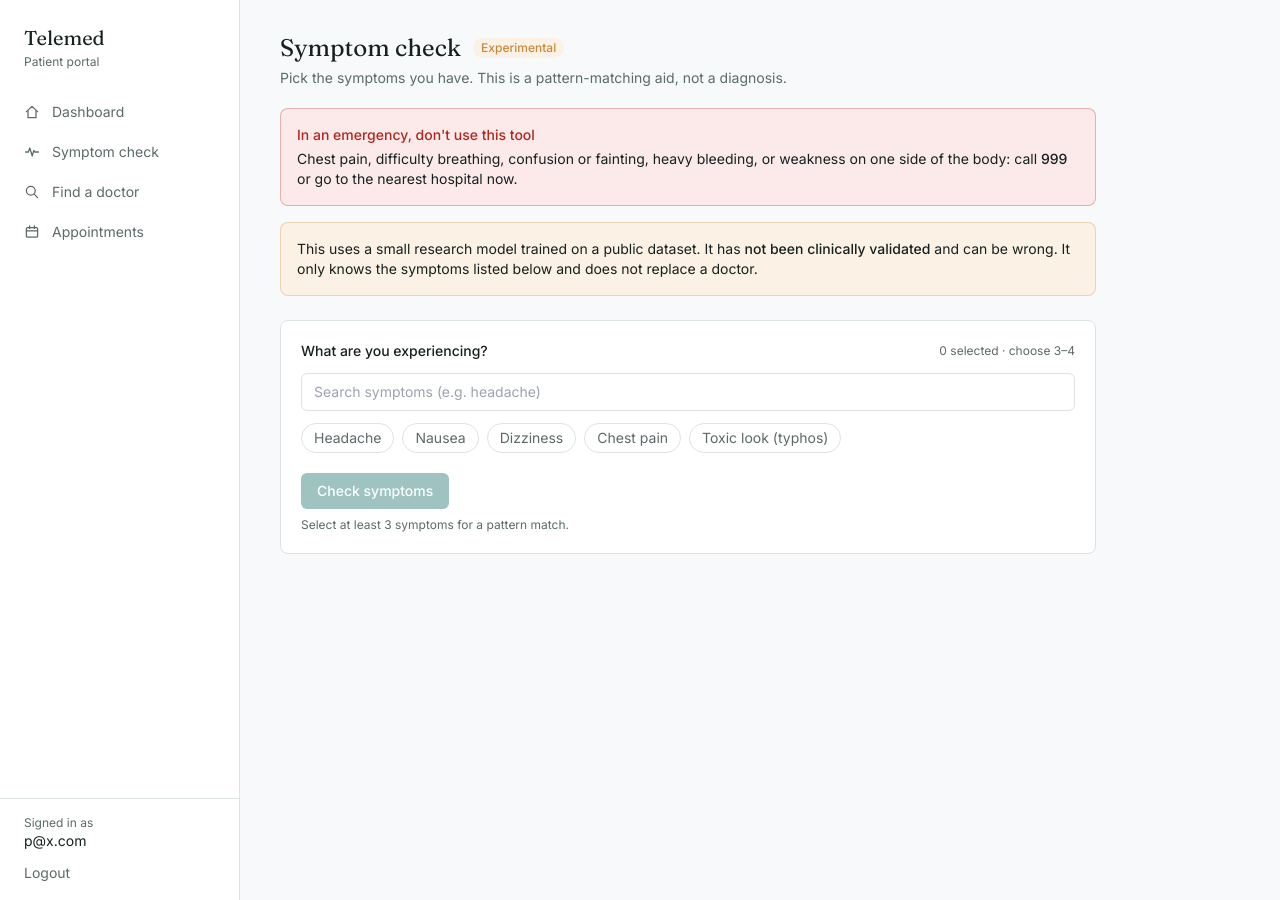
Test: SymptomAssessment › specialty missing from the system: says so instead of linking to an empty filter
Click the button "Headache": point(348, 438) [301,423,394,453]
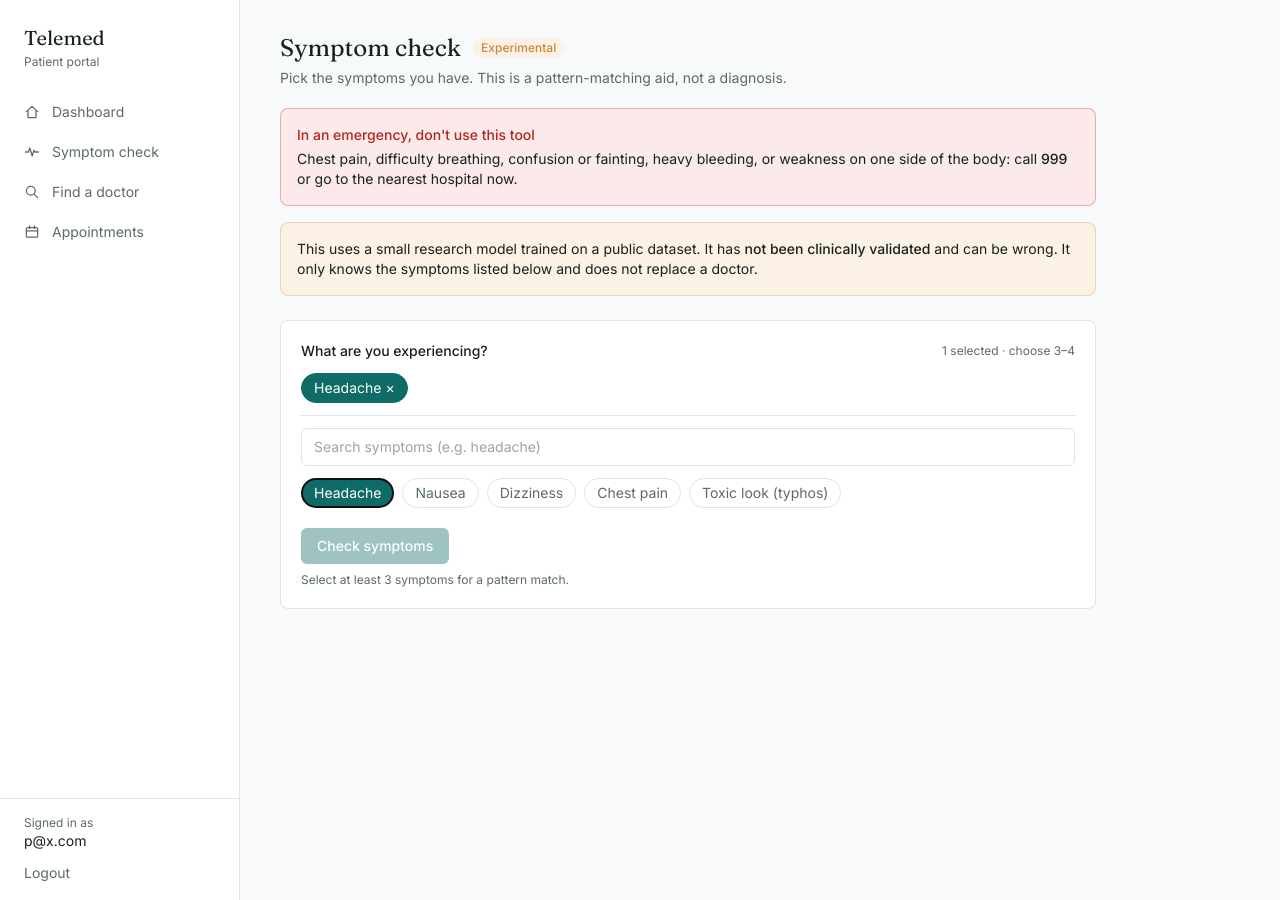
Click the button "Nausea": point(441, 493) [402,478,479,508]
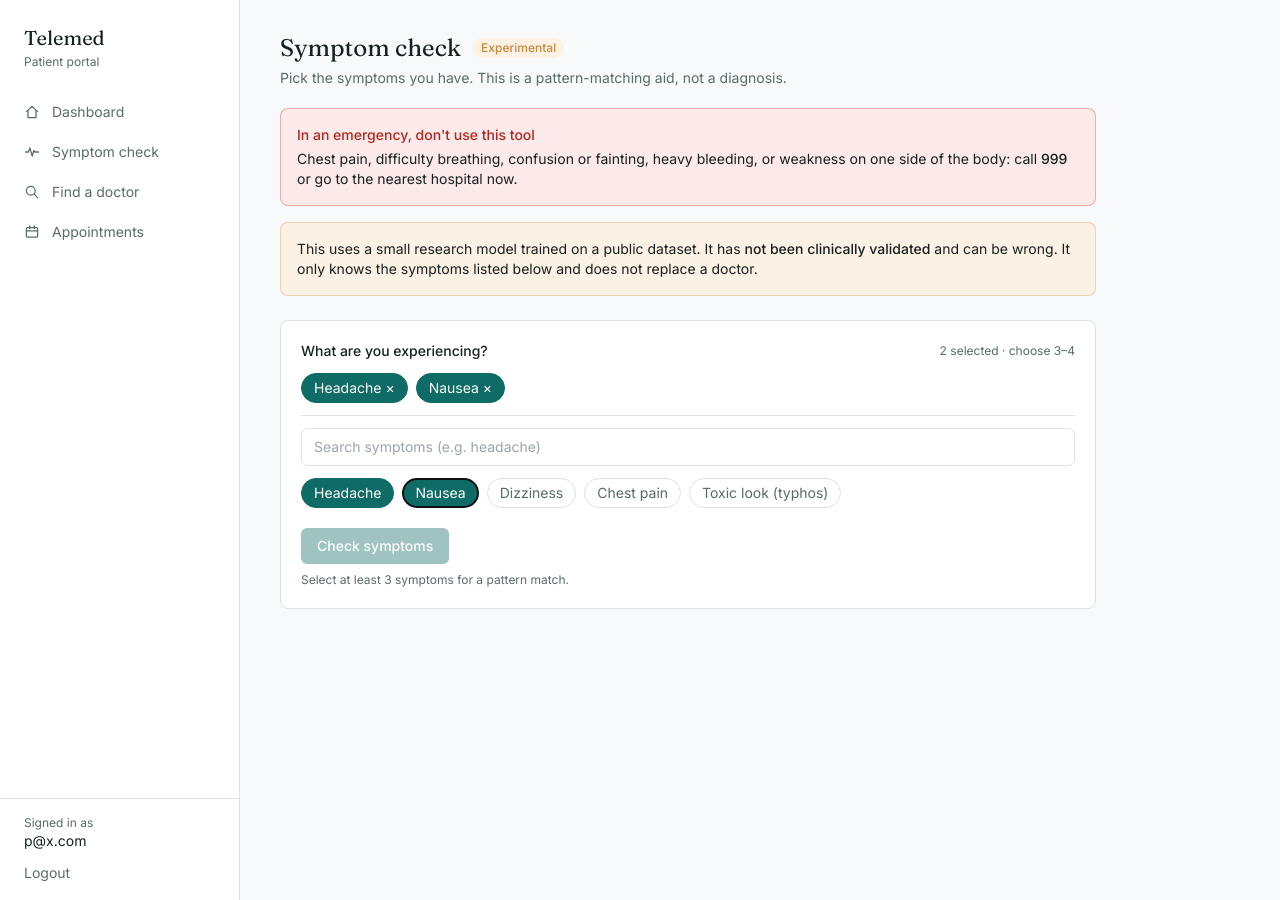
Click the button "Dizziness": point(532, 493) [487,478,576,508]
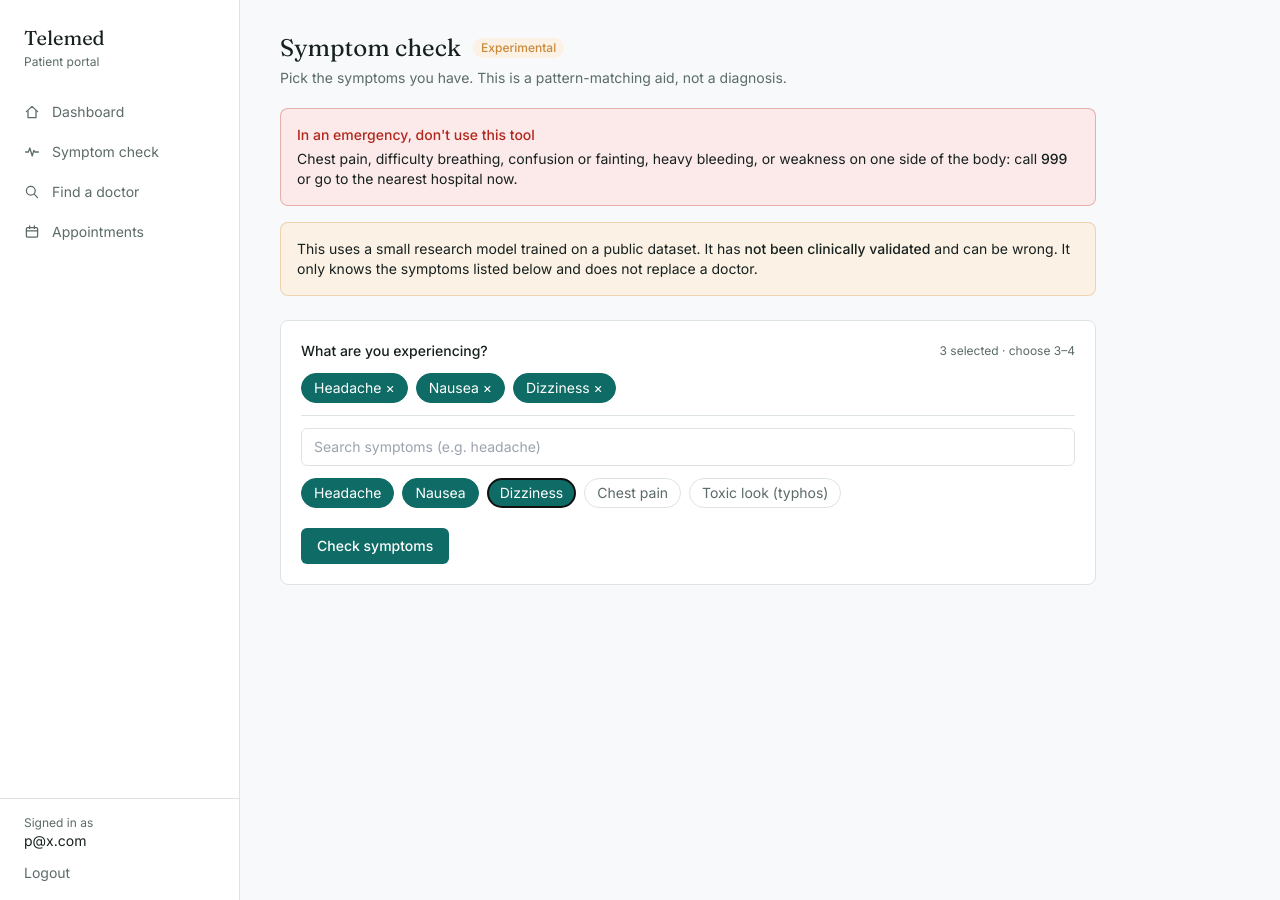
Click the button "Check symptoms": point(375, 546) [301,528,449,564]
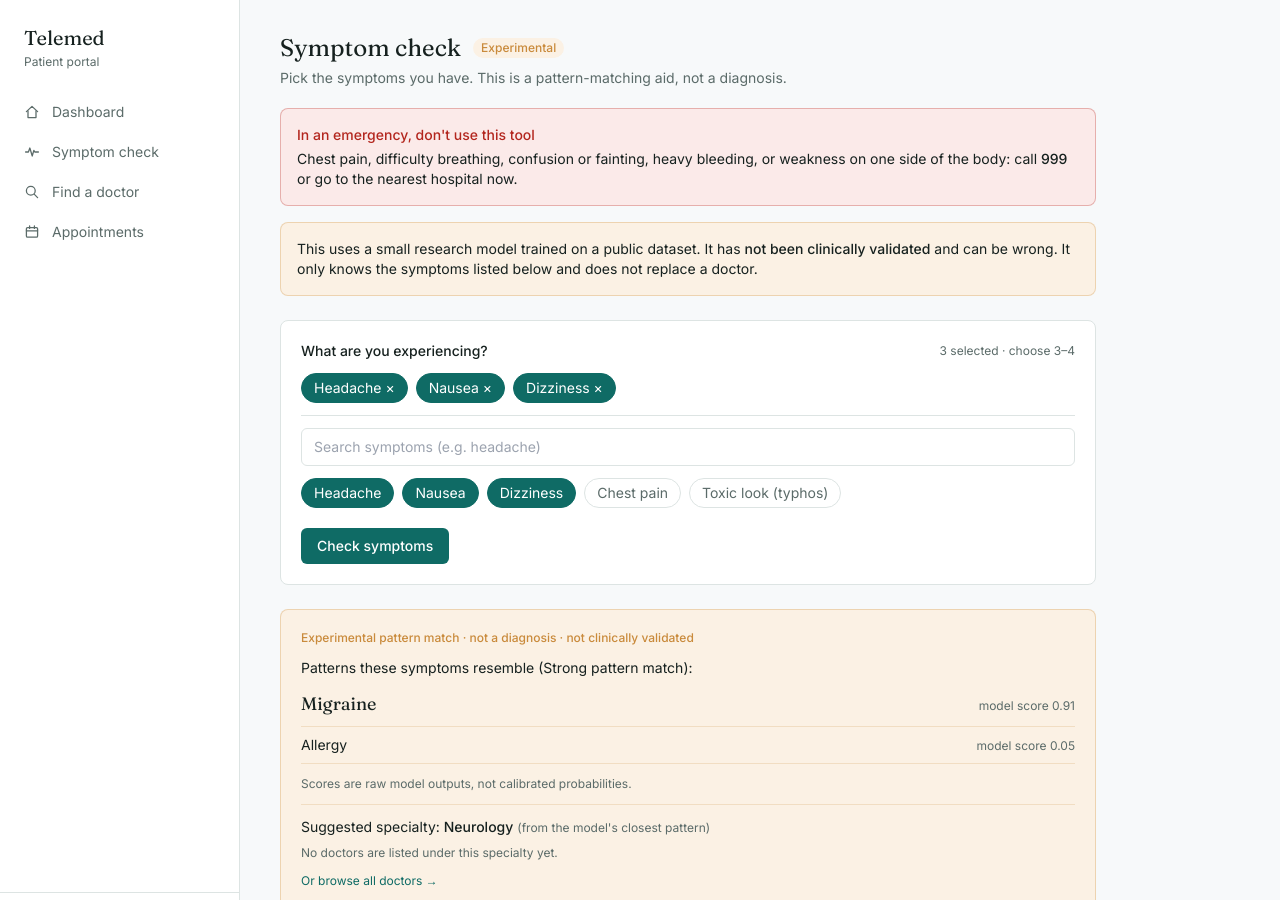
Now the text "No doctors are listed under this specialty yet." is shown, box [301,845,558,860]
